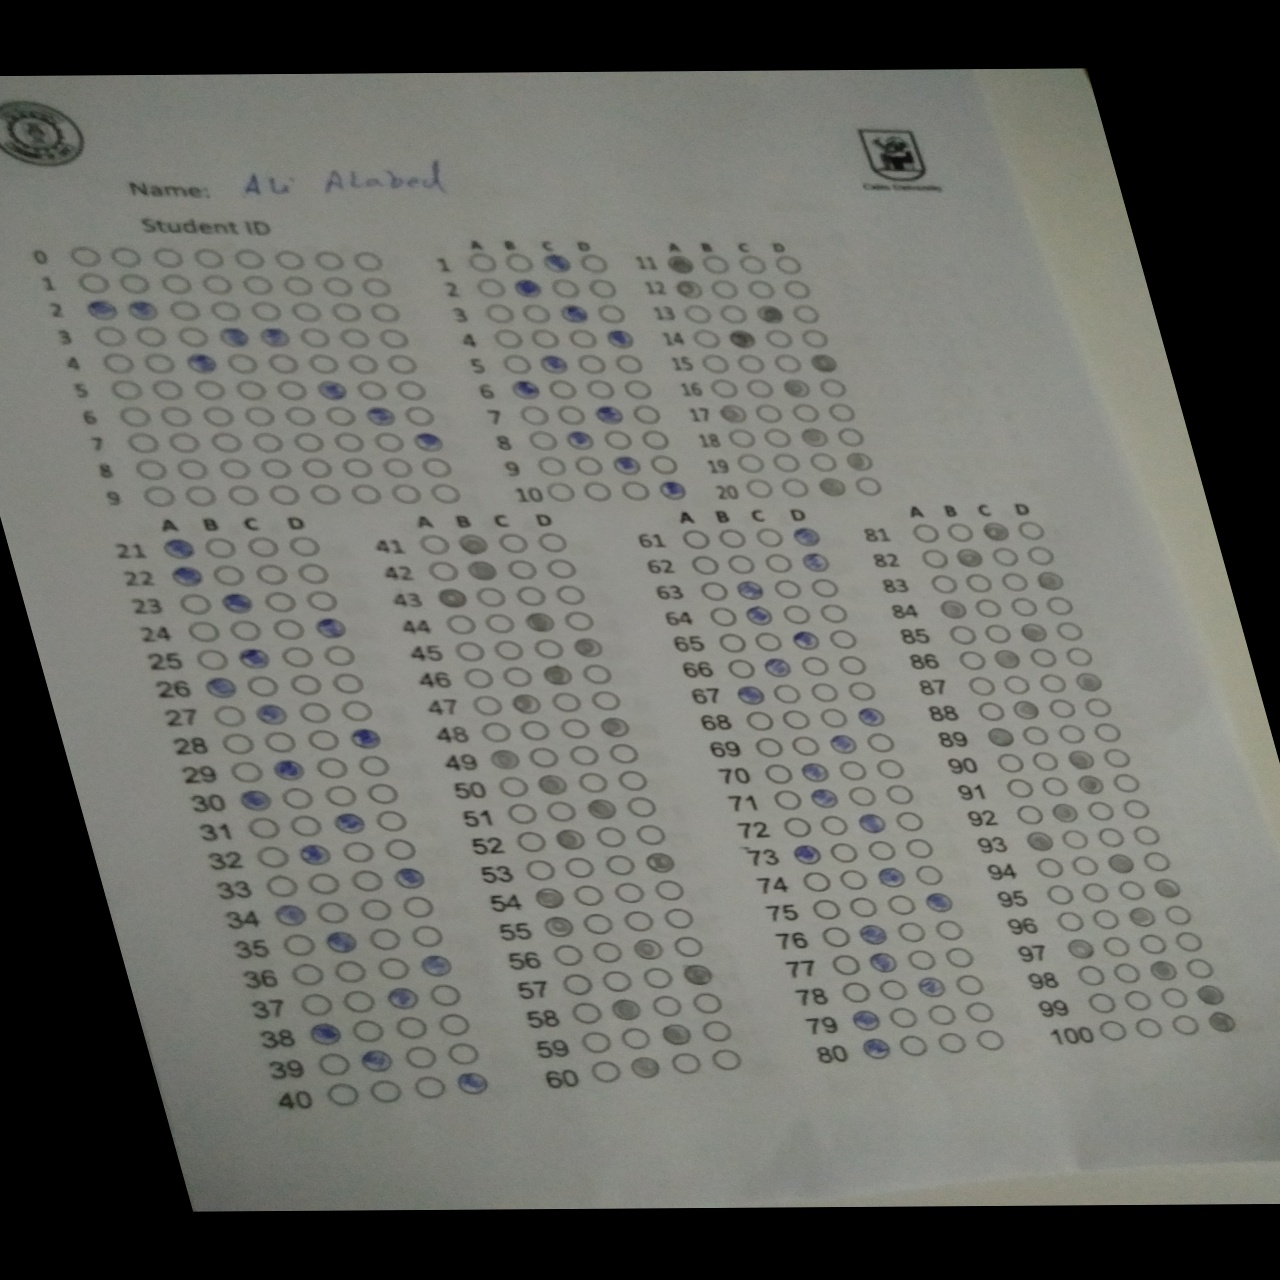not-c: (502, 801, 542, 826), (409, 1075, 450, 1099), (434, 1012, 475, 1036), (862, 837, 903, 862), (712, 629, 753, 654), (519, 857, 559, 881), (584, 1058, 624, 1083), (558, 972, 598, 996), (549, 942, 588, 967), (586, 939, 626, 964), (890, 808, 930, 832), (571, 769, 611, 794), (467, 693, 506, 717), (373, 809, 413, 833), (884, 1005, 924, 1029), (969, 1027, 1009, 1051), (893, 1033, 933, 1057), (816, 925, 856, 949), (617, 1026, 656, 1050), (647, 992, 687, 1016), (442, 1041, 482, 1065), (314, 1051, 354, 1076), (297, 990, 336, 1015), (758, 761, 798, 785), (840, 678, 880, 702), (805, 680, 845, 704), (767, 681, 806, 706), (795, 653, 835, 678), (425, 481, 467, 504), (343, 350, 384, 374), (568, 881, 610, 905), (576, 911, 617, 934), (658, 906, 699, 930), (602, 742, 644, 765), (554, 716, 595, 740), (474, 719, 515, 742), (577, 1032, 618, 1055), (922, 1003, 964, 1027), (365, 1078, 406, 1102), (765, 788, 806, 811), (971, 700, 1012, 723), (1088, 720, 1129, 743), (1015, 723, 1056, 747), (745, 629, 787, 653), (1005, 595, 1046, 619), (1019, 543, 1060, 566), (1012, 518, 1053, 542), (558, 855, 597, 879), (687, 990, 726, 1015), (622, 794, 661, 818), (302, 727, 341, 751), (707, 1047, 745, 1071), (324, 1082, 362, 1107), (346, 1017, 384, 1042), (742, 277, 782, 300), (374, 327, 414, 350), (738, 476, 778, 499), (223, 352, 263, 375), (98, 350, 138, 374), (252, 563, 292, 586), (297, 456, 336, 479), (908, 520, 948, 544), (510, 830, 550, 853), (695, 1017, 735, 1041), (638, 966, 678, 989), (619, 908, 659, 932), (278, 932, 318, 955), (651, 879, 690, 903), (600, 852, 640, 876), (542, 799, 581, 823), (492, 774, 532, 797), (631, 823, 670, 846), (611, 768, 651, 791), (524, 745, 564, 769), (312, 900, 352, 924), (355, 898, 395, 921), (347, 869, 387, 892), (304, 872, 343, 896), (253, 845, 293, 869), (286, 815, 326, 838), (244, 817, 284, 840), (362, 781, 402, 804), (320, 783, 360, 806), (275, 785, 315, 809), (226, 760, 266, 783), (932, 1030, 972, 1054), (666, 1051, 706, 1075), (567, 1001, 607, 1024), (401, 1046, 441, 1069), (390, 1015, 430, 1039), (424, 982, 464, 1006), (338, 988, 377, 1012), (833, 757, 873, 781), (776, 815, 816, 838), (1033, 670, 1073, 694), (1078, 695, 1118, 719), (1051, 722, 1091, 745), (787, 733, 826, 756), (813, 704, 853, 728), (775, 707, 815, 730), (822, 627, 862, 651), (842, 784, 881, 808), (871, 756, 911, 779), (880, 783, 920, 806), (978, 620, 1017, 644), (996, 570, 1036, 593), (959, 571, 999, 594), (1041, 593, 1081, 617), (985, 544, 1024, 567), (847, 476, 888, 498), (365, 301, 406, 324), (644, 454, 685, 476), (595, 969, 636, 992), (1024, 750, 1065, 772), (720, 656, 761, 679), (572, 353, 611, 376), (778, 277, 817, 300), (464, 250, 503, 273), (731, 352, 770, 375), (165, 299, 204, 322), (266, 483, 305, 506), (329, 670, 368, 694), (329, 960, 368, 983), (408, 924, 447, 947), (667, 934, 706, 958), (564, 743, 602, 767), (381, 837, 420, 860), (354, 754, 393, 777), (312, 755, 350, 778), (961, 1001, 1000, 1024), (1024, 645, 1063, 668), (942, 622, 981, 646), (1061, 645, 1099, 668), (998, 673, 1036, 696), (964, 674, 1002, 697), (1043, 696, 1082, 720), (1000, 776, 1039, 799), (749, 735, 788, 758), (831, 653, 870, 676), (900, 836, 939, 859), (967, 595, 1006, 619), (925, 572, 964, 595), (1051, 619, 1090, 642), (915, 545, 954, 568), (941, 520, 980, 544), (496, 353, 536, 375), (617, 379, 656, 401), (608, 353, 648, 375), (488, 328, 527, 350), (546, 275, 586, 298), (768, 253, 808, 275), (767, 451, 806, 474), (758, 427, 798, 449), (760, 327, 799, 349), (713, 302, 753, 325), (287, 301, 327, 324), (171, 325, 211, 347), (229, 247, 268, 270), (188, 246, 227, 268), (114, 272, 154, 294), (617, 479, 656, 502), (539, 481, 579, 503), (635, 428, 675, 450), (570, 455, 610, 477), (522, 429, 561, 451), (139, 485, 179, 508), (189, 377, 229, 400), (147, 377, 186, 400), (346, 482, 386, 504), (392, 379, 431, 401), (302, 352, 342, 374), (263, 350, 302, 373), (172, 458, 212, 481), (318, 645, 358, 667), (268, 618, 308, 640), (175, 592, 215, 614), (285, 535, 325, 557), (223, 484, 263, 506), (217, 731, 257, 754), (459, 667, 499, 689), (775, 602, 815, 625), (576, 662, 615, 685), (529, 636, 568, 659), (448, 640, 488, 662), (440, 612, 479, 634), (241, 675, 281, 697), (767, 578, 806, 600), (758, 551, 798, 573), (712, 526, 751, 549), (501, 557, 540, 579), (493, 532, 533, 554), (373, 956, 413, 979), (365, 927, 404, 949), (610, 881, 649, 904), (592, 825, 632, 847), (397, 896, 437, 918), (261, 874, 301, 897), (338, 840, 377, 863), (952, 648, 992, 670), (990, 751, 1030, 774), (860, 731, 900, 754), (738, 709, 778, 731), (815, 813, 855, 836), (685, 328, 726, 349), (308, 248, 347, 271), (544, 377, 583, 400), (581, 377, 620, 400), (696, 252, 735, 274), (576, 252, 614, 274), (803, 451, 842, 474), (748, 402, 787, 424), (823, 400, 862, 422), (696, 352, 735, 374), (515, 403, 553, 425), (316, 275, 355, 298), (205, 299, 244, 321), (335, 327, 374, 349), (132, 326, 171, 348), (197, 273, 236, 295), (149, 246, 188, 268), (776, 476, 815, 498), (347, 248, 386, 271), (230, 377, 268, 400), (306, 483, 345, 505), (387, 482, 425, 504), (293, 563, 332, 585), (200, 536, 239, 558), (676, 527, 715, 550), (339, 457, 377, 479), (205, 430, 244, 452), (258, 730, 297, 753), (551, 583, 590, 605), (489, 639, 527, 661), (559, 610, 598, 632), (470, 586, 509, 608), (287, 673, 326, 695), (803, 576, 842, 598), (748, 525, 787, 547), (423, 560, 462, 583), (531, 531, 570, 553), (288, 962, 327, 985), (586, 689, 625, 712), (515, 717, 553, 740), (931, 919, 969, 941), (891, 920, 930, 942), (908, 864, 947, 886), (1030, 856, 1069, 878), (951, 974, 989, 996), (1160, 904, 1199, 926), (1051, 908, 1090, 931), (1074, 964, 1112, 986), (1182, 956, 1220, 979), (1155, 986, 1193, 1008), (1097, 745, 1136, 768), (563, 328, 602, 349), (676, 302, 716, 324), (706, 278, 745, 299), (470, 277, 510, 298), (731, 253, 771, 274), (730, 452, 770, 474), (704, 377, 744, 399), (740, 377, 779, 399), (768, 352, 808, 373), (795, 327, 835, 348), (787, 302, 826, 324), (626, 404, 666, 425), (277, 275, 316, 297), (268, 248, 308, 270), (90, 326, 130, 347), (238, 274, 278, 295), (155, 273, 195, 294), (577, 481, 617, 502), (290, 431, 329, 452), (114, 406, 154, 427), (155, 406, 195, 427), (105, 379, 145, 400), (370, 431, 410, 452), (377, 457, 417, 478), (416, 457, 456, 478), (382, 352, 422, 373), (132, 459, 172, 481), (181, 485, 220, 506), (191, 649, 231, 670), (259, 591, 299, 612), (243, 536, 282, 557), (216, 458, 256, 479), (338, 700, 377, 721), (207, 704, 247, 726), (815, 602, 855, 624), (543, 558, 583, 579), (832, 425, 870, 448), (1036, 775, 1074, 797), (1107, 771, 1144, 794), (1083, 799, 1121, 822), (1009, 804, 1047, 826), (797, 870, 835, 892), (1137, 851, 1175, 873), (837, 981, 874, 1003), (874, 978, 912, 1000), (1167, 1014, 1205, 1036), (1130, 1016, 1167, 1039), (1096, 1019, 1133, 1041), (64, 246, 103, 267), (74, 272, 113, 293), (524, 328, 563, 349), (592, 302, 631, 324), (517, 302, 556, 324), (479, 302, 518, 324), (584, 277, 622, 298), (499, 252, 538, 273), (723, 427, 762, 448), (787, 401, 825, 422), (813, 376, 852, 397), (551, 404, 590, 425), (355, 275, 394, 297), (246, 301, 285, 322), (326, 301, 365, 322), (294, 326, 333, 347), (104, 246, 143, 267), (532, 455, 571, 476), (598, 429, 636, 450), (248, 431, 287, 452), (329, 430, 368, 451), (199, 406, 238, 427), (240, 404, 279, 425), (271, 379, 309, 400), (281, 406, 320, 427), (401, 406, 440, 427), (353, 379, 392, 400), (137, 352, 176, 373), (278, 646, 316, 667), (225, 619, 264, 640), (184, 621, 223, 642), (302, 590, 341, 611), (210, 565, 248, 586), (257, 458, 295, 479), (165, 431, 204, 452), (123, 431, 162, 452), (293, 701, 332, 722), (498, 666, 537, 687), (702, 606, 741, 627), (481, 612, 519, 633), (511, 584, 550, 605), (694, 580, 733, 601), (723, 553, 762, 574), (683, 554, 722, 576), (883, 893, 921, 914), (1128, 825, 1166, 846), (939, 946, 978, 967), (1115, 880, 1153, 901), (1088, 908, 1126, 930), (1135, 933, 1173, 954), (1108, 962, 1146, 983), (1081, 992, 1119, 1013), (414, 535, 454, 554), (826, 840, 864, 862), (1118, 798, 1156, 819), (1057, 828, 1095, 849), (1092, 828, 1130, 849), (833, 869, 871, 890), (845, 896, 883, 917), (806, 898, 844, 919), (1065, 855, 1103, 876), (901, 949, 939, 971), (828, 953, 865, 974), (1042, 884, 1080, 905), (1077, 881, 1115, 903), (1098, 935, 1136, 956), (1171, 930, 1208, 951), (1121, 990, 1158, 1012), (321, 406, 360, 425), (547, 692, 586, 712)
taken-c: (485, 747, 527, 771), (532, 772, 576, 796), (304, 1022, 347, 1046), (382, 986, 425, 1009), (852, 811, 896, 835), (551, 828, 594, 851), (1012, 619, 1053, 644), (794, 760, 835, 784), (581, 796, 622, 821), (640, 849, 681, 873), (293, 842, 335, 865), (233, 789, 275, 812), (345, 727, 387, 750), (627, 937, 669, 960), (918, 890, 960, 913), (853, 922, 896, 946), (910, 975, 952, 999), (654, 1022, 696, 1046), (622, 1055, 665, 1078), (355, 1049, 397, 1073), (415, 953, 457, 976), (320, 930, 362, 953), (268, 903, 311, 926), (931, 595, 973, 619), (805, 787, 847, 810), (871, 865, 913, 888), (979, 726, 1021, 749), (948, 545, 990, 568), (1046, 799, 1085, 824), (327, 812, 370, 835), (508, 692, 549, 715), (787, 842, 828, 865), (863, 951, 904, 974), (823, 733, 864, 756), (1061, 747, 1102, 770), (594, 715, 636, 737), (535, 663, 577, 686), (388, 866, 430, 888), (251, 702, 293, 724), (198, 676, 240, 699), (527, 886, 570, 908), (539, 915, 581, 938), (451, 1073, 493, 1095), (974, 519, 1016, 542), (461, 558, 501, 581), (312, 377, 349, 402), (1123, 905, 1160, 930), (678, 964, 719, 986), (605, 998, 646, 1020), (846, 1009, 887, 1032), (855, 1037, 896, 1060), (1068, 670, 1109, 693), (1191, 982, 1230, 1006), (1101, 851, 1139, 874), (1021, 830, 1060, 853), (256, 325, 292, 349), (267, 760, 309, 781), (520, 611, 560, 633), (215, 326, 252, 349), (218, 591, 256, 614), (1144, 958, 1182, 981), (1148, 877, 1185, 900), (653, 479, 692, 502), (731, 683, 770, 706), (788, 629, 826, 652), (740, 605, 778, 627), (796, 551, 835, 573), (311, 617, 349, 639), (433, 586, 471, 608), (1061, 937, 1099, 959), (1203, 1010, 1241, 1033), (1073, 772, 1109, 796), (568, 636, 608, 658), (452, 533, 492, 554), (183, 352, 220, 374), (561, 430, 599, 452), (731, 579, 769, 601), (787, 525, 824, 547), (234, 647, 272, 669), (159, 537, 197, 559), (850, 706, 888, 727), (166, 565, 205, 586), (123, 299, 159, 321), (84, 299, 121, 321), (1032, 568, 1069, 590), (409, 431, 445, 452), (362, 406, 399, 427), (760, 658, 797, 678), (813, 476, 849, 497), (840, 450, 876, 471), (556, 302, 591, 324), (508, 277, 543, 298), (716, 403, 750, 424), (602, 328, 636, 349), (753, 302, 787, 324), (670, 279, 706, 299), (592, 406, 627, 425), (796, 425, 831, 445), (778, 377, 813, 397), (805, 353, 840, 373), (724, 328, 760, 348), (535, 354, 570, 374), (539, 252, 574, 272), (663, 254, 697, 274), (508, 380, 543, 399)
